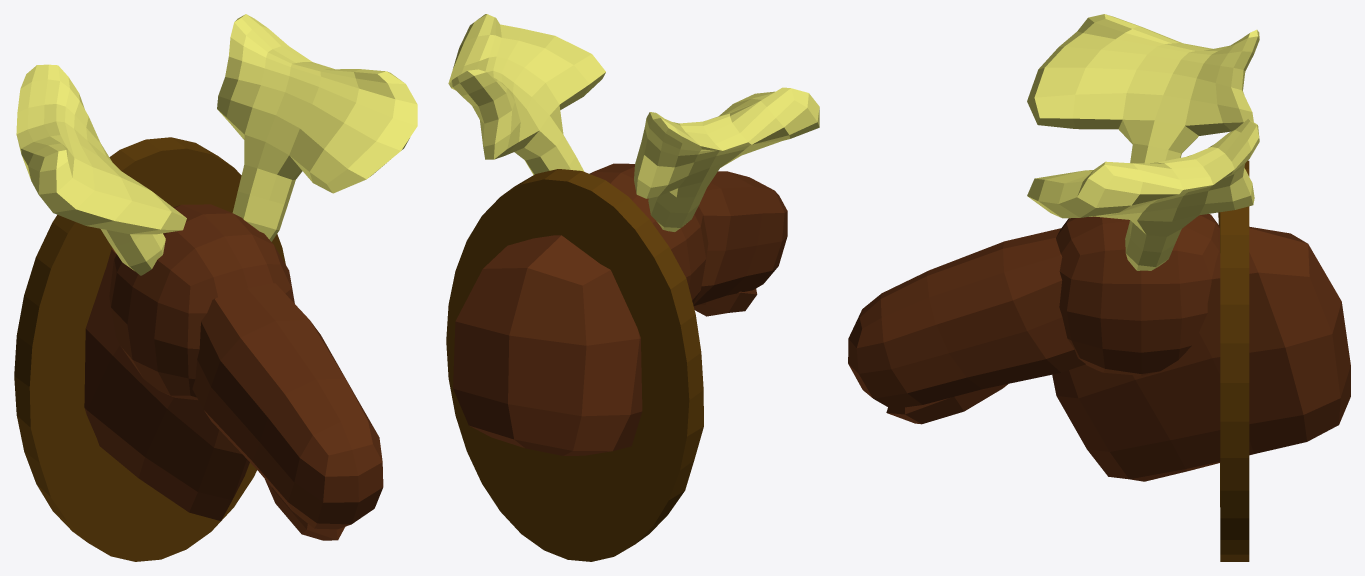
The model's file is moose_head.glb.
The picture shows the model from 3 angles, left to right: view 1: azimuth 30°, elevation 25°; view 2: azimuth 150°, elevation 25°; view 3: azimuth 270°, elevation 25°; orthographic projection. The views are drawn at different scales.
Visible parts, largest first — view 1: lastHead; view 2: lastHead; view 3: lastHead.
Boxes of the visible parts, bbox=[...] form: lastHead: bbox=[14, 14, 417, 561]; lastHead: bbox=[446, 14, 819, 561]; lastHead: bbox=[848, 14, 1350, 561].
Size of the model in its own units: 4.82 by 6.19 by 5.91.
